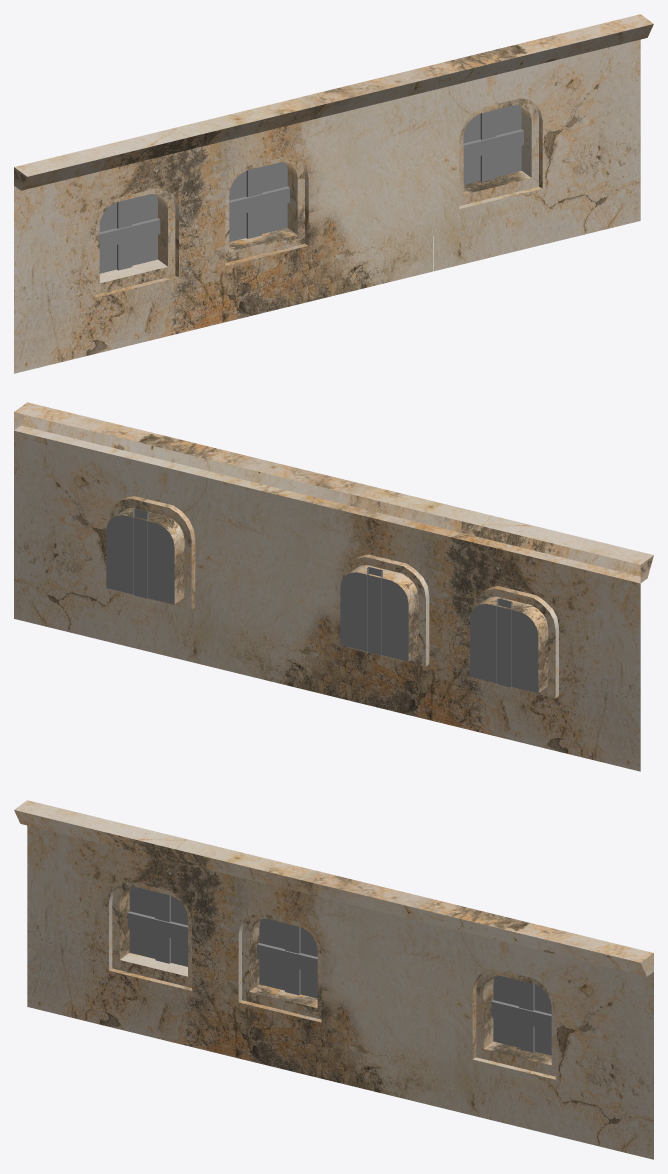
File: Batiment_2_3_fenetre.FBX
The picture shows the model from 3 angles, top to bottom: view 1: azimuth 30°, elevation 25°; view 2: azimuth 150°, elevation 25°; view 3: azimuth 330°, elevation 25°; orthographic projection.
Visible parts, largest first — view 1: Object018; view 2: Object018; view 3: Object018.
Part boxes in pixels (x1=…): Object018: x1=14, y1=14, x2=653, y2=373; Object018: x1=14, y1=402, x2=653, y2=771; Object018: x1=14, y1=800, x2=653, y2=1159.
Size of the model in its own units: 530 by 39.57 by 167.
3 materials, 1 textured.
